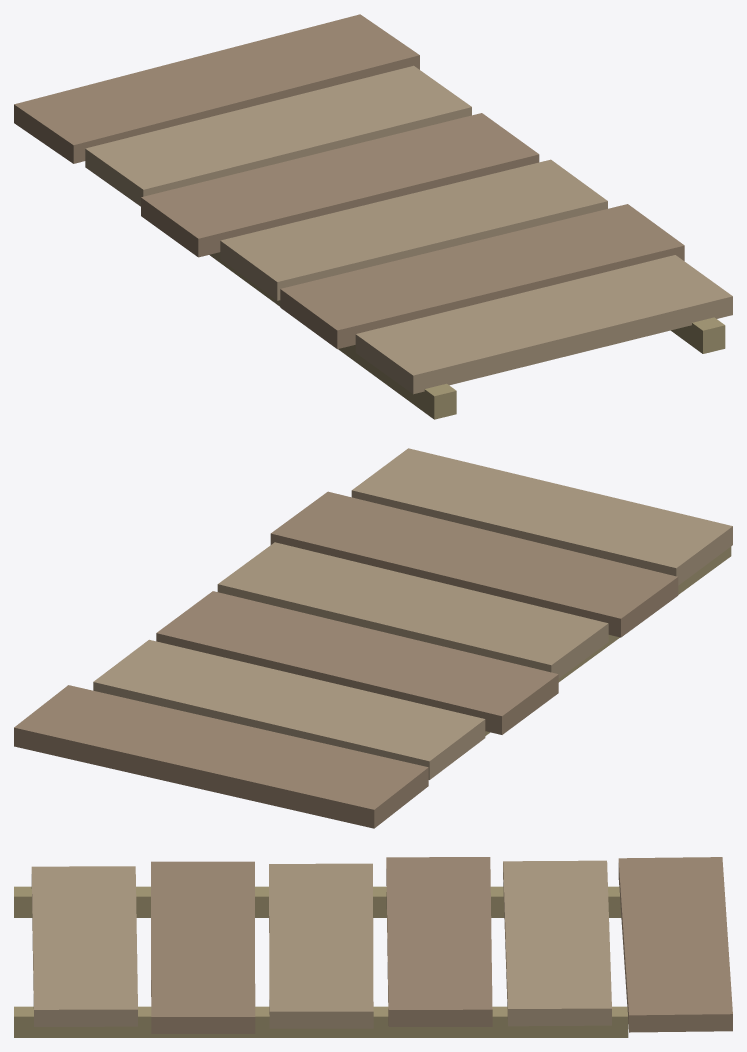
The model's file is iv_boardwalk.glb.
3 renders of one model, top to bottom at view 1: azimuth 30°, elevation 25°; view 2: azimuth 150°, elevation 25°; view 3: azimuth 270°, elevation 25°, orthographic. The views are drawn at different scales.
Parts seen in each view (by area): view 1: iv_boardwalk; view 2: iv_boardwalk; view 3: iv_boardwalk.
Part boxes in pixels (left/top/right/bottom): iv_boardwalk: left=14, top=14, right=732, bottom=419; iv_boardwalk: left=14, top=448, right=732, bottom=828; iv_boardwalk: left=14, top=857, right=732, bottom=1037.
Size of the model in its own units: 1.6 by 0.17 by 3.04.
